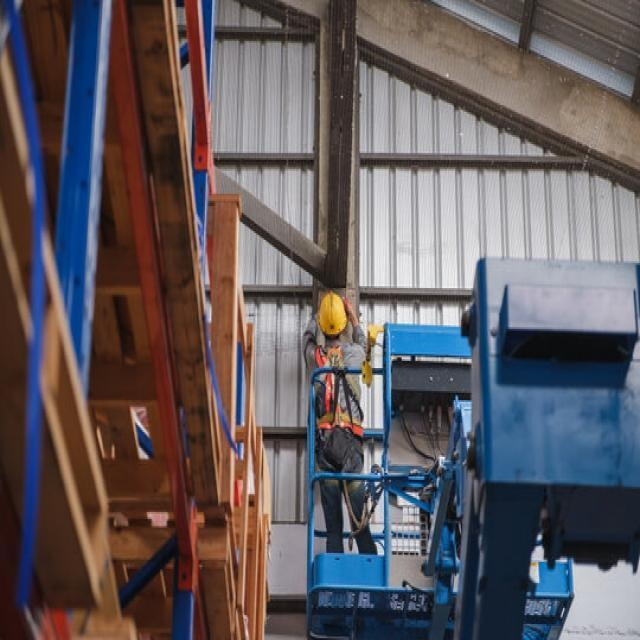Arnes_seguridad: (311, 337, 363, 439)
